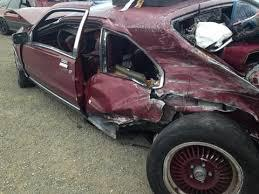doorouter-dent: (87, 78, 160, 127)
fender-dent: (174, 76, 252, 121)
